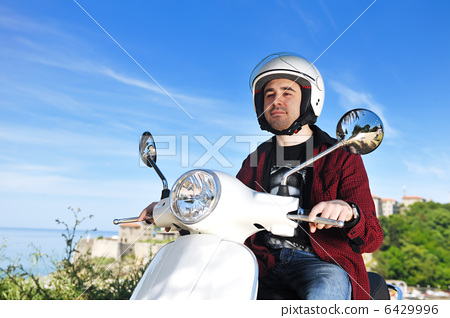helmet: (243, 49, 322, 132)
